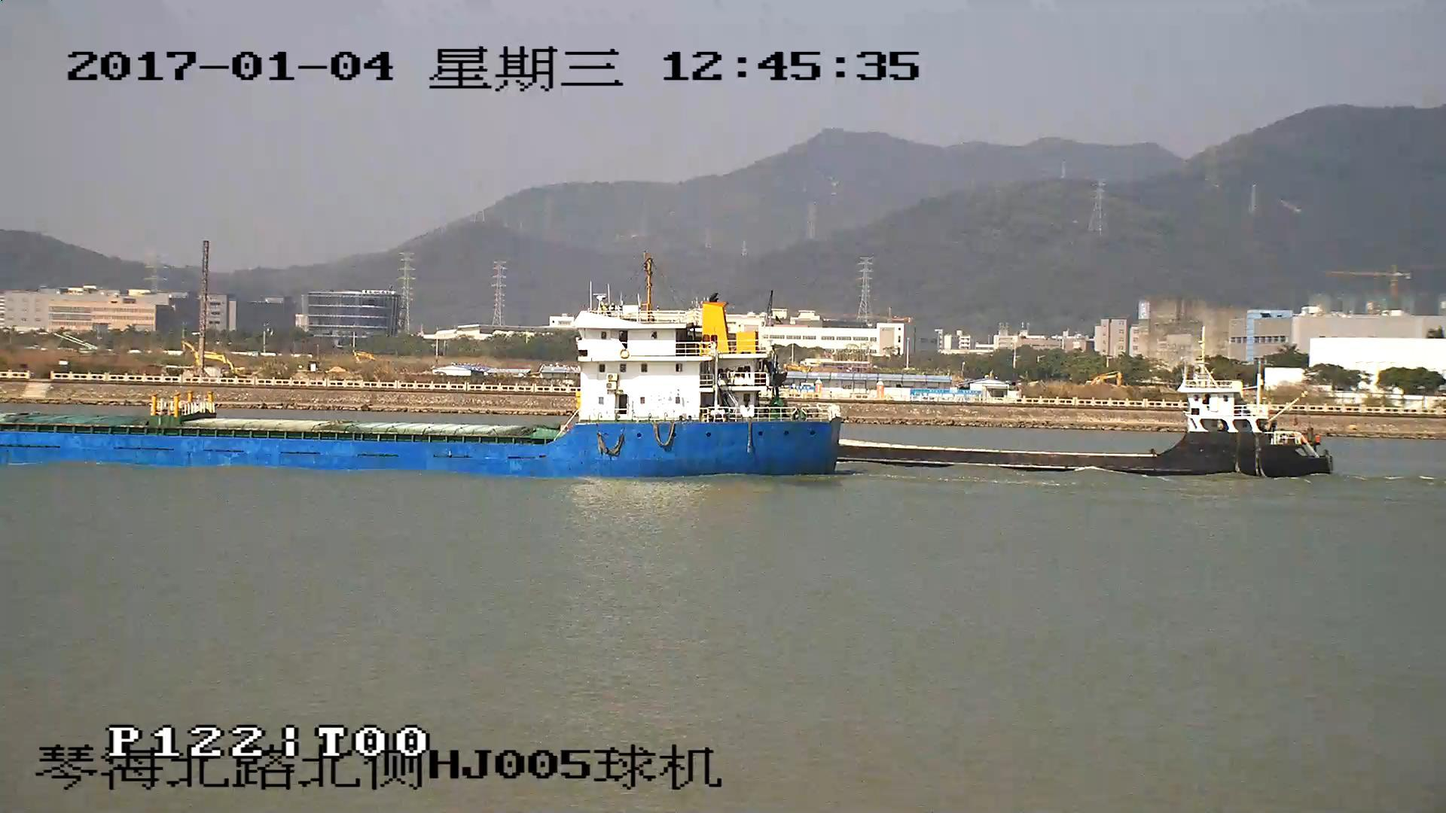general cargo ship: (0, 297, 842, 477), (831, 361, 1331, 478)
